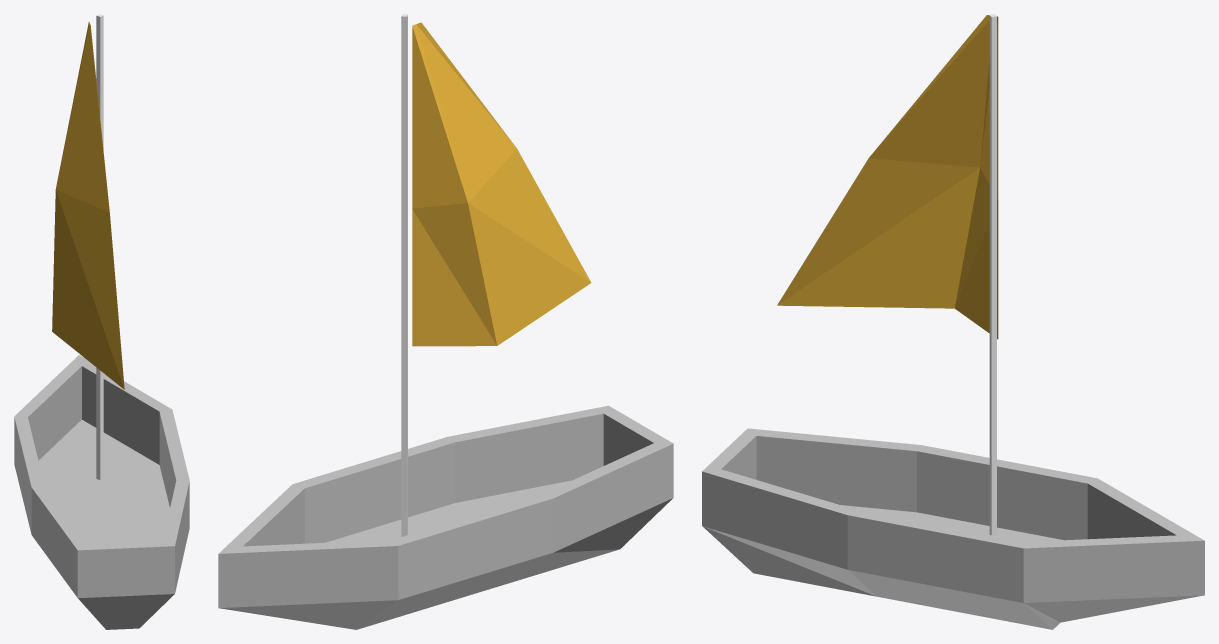
The model's file is boat.obj.
3 renders of one model, left to right at view 1: azimuth 30°, elevation 25°; view 2: azimuth 150°, elevation 25°; view 3: azimuth 270°, elevation 25°, orthographic. The views are drawn at different scales.
Parts seen in each view (by area): view 1: boat; view 2: boat; view 3: boat.
Boxes of the visible parts, <box> form: boat: <box>14,14,189,629</box>; boat: <box>218,14,673,629</box>; boat: <box>702,14,1204,629</box>.
Bounding box in the file's own units: 4.82 × 11.13 × 8.54.
